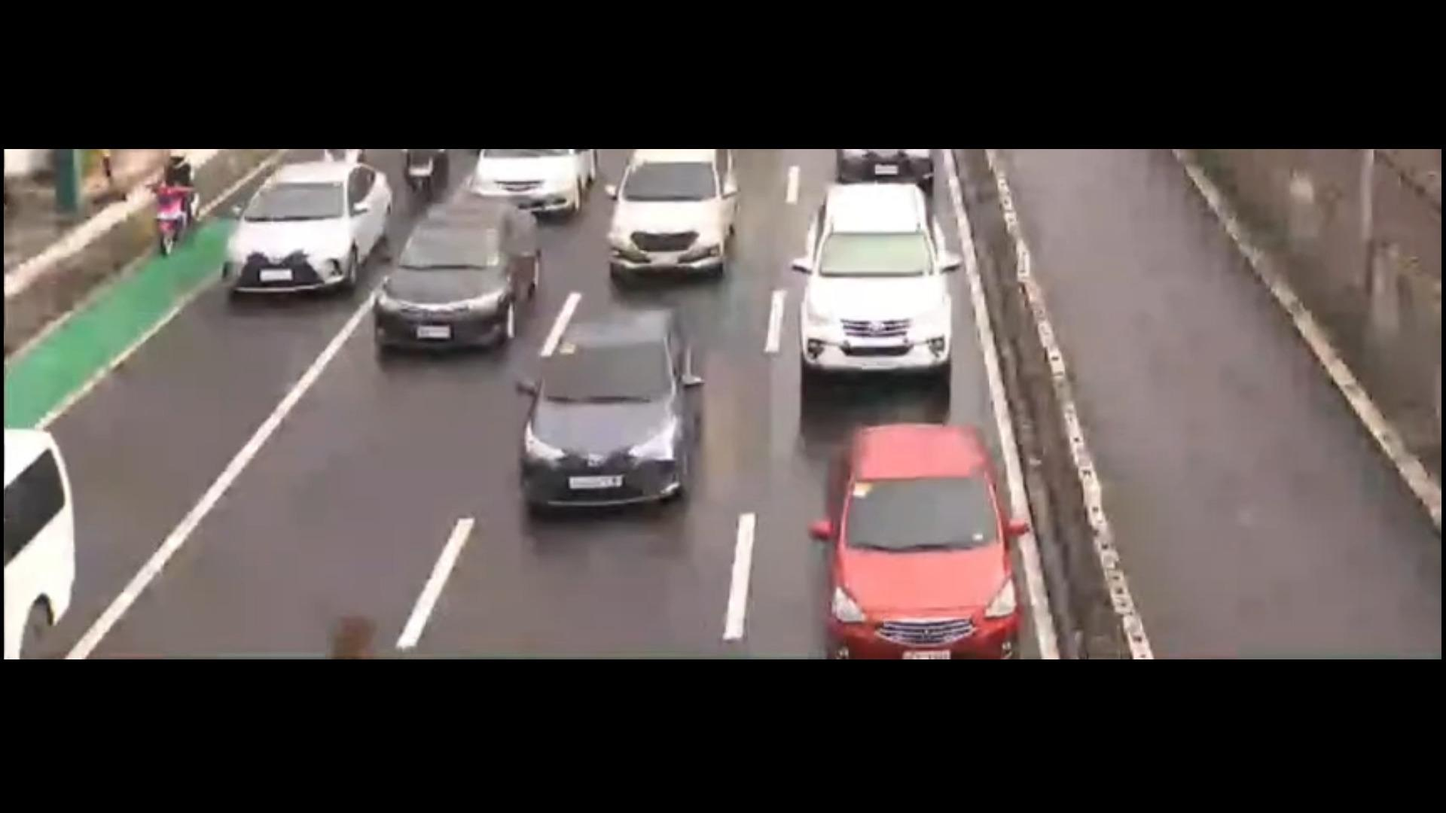Motorcycle: (141, 151, 215, 256)
SUV: (795, 405, 1033, 654), (518, 292, 723, 535), (789, 179, 966, 389), (584, 149, 763, 279)
Sedan: (382, 192, 575, 365), (217, 152, 403, 300)
